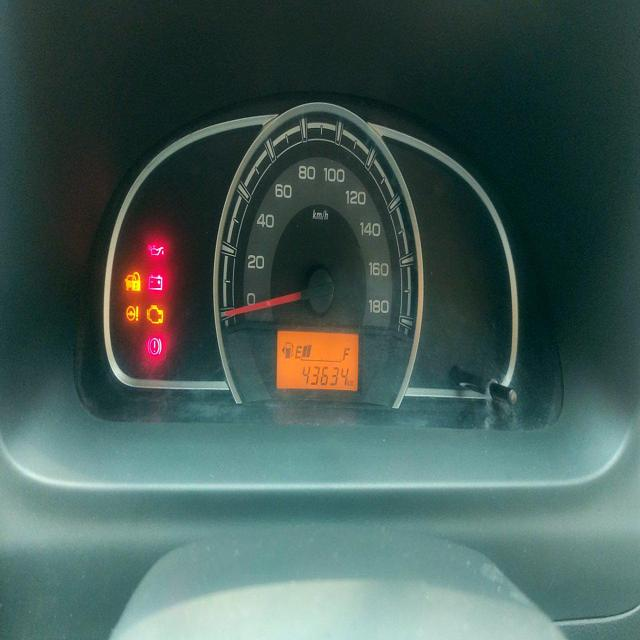odometer: (301, 360, 351, 390)
